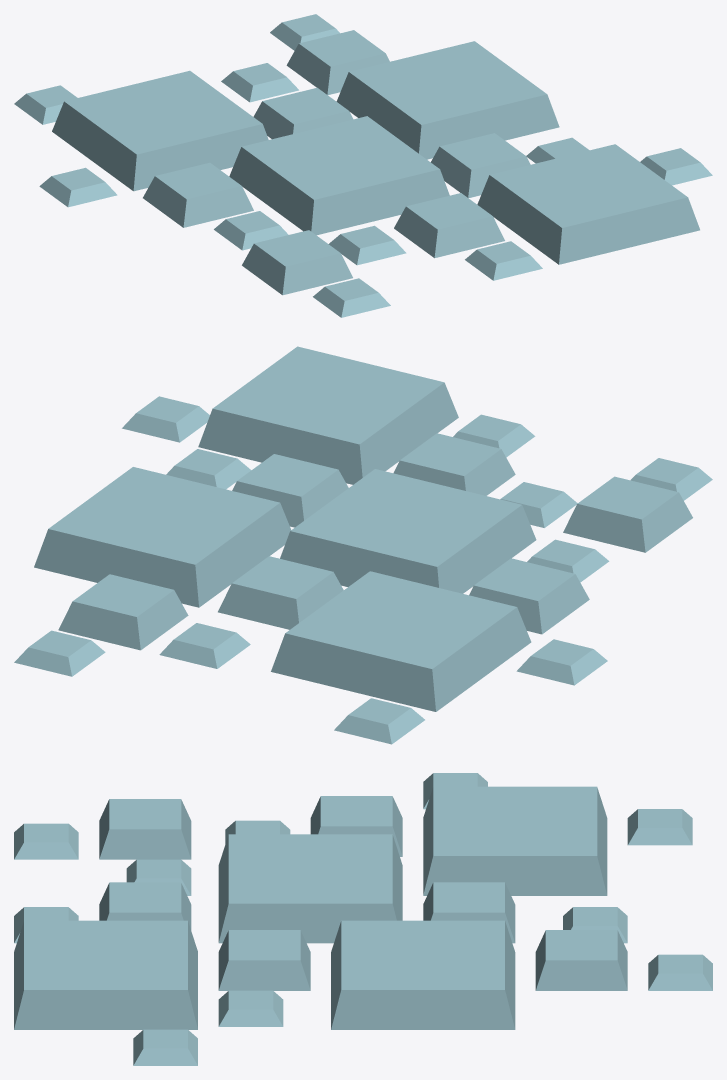
Rendered from road.obj.
3 views of the same model, one above another, from view 1: azimuth 30°, elevation 25°; view 2: azimuth 150°, elevation 25°; view 3: azimuth 270°, elevation 25° (orthographic). The views are drawn at different scales.
Visible parts, largest first — view 1: road; view 2: road; view 3: road.
Boxes of the visible parts, left/top/right/bottom form: road: left=14, top=14, right=712, bottom=317; road: left=14, top=346, right=712, bottom=744; road: left=14, top=773, right=712, bottom=1065.
Bounding box in the file's own units: 0.7407 × 0.0433 × 0.7708.
